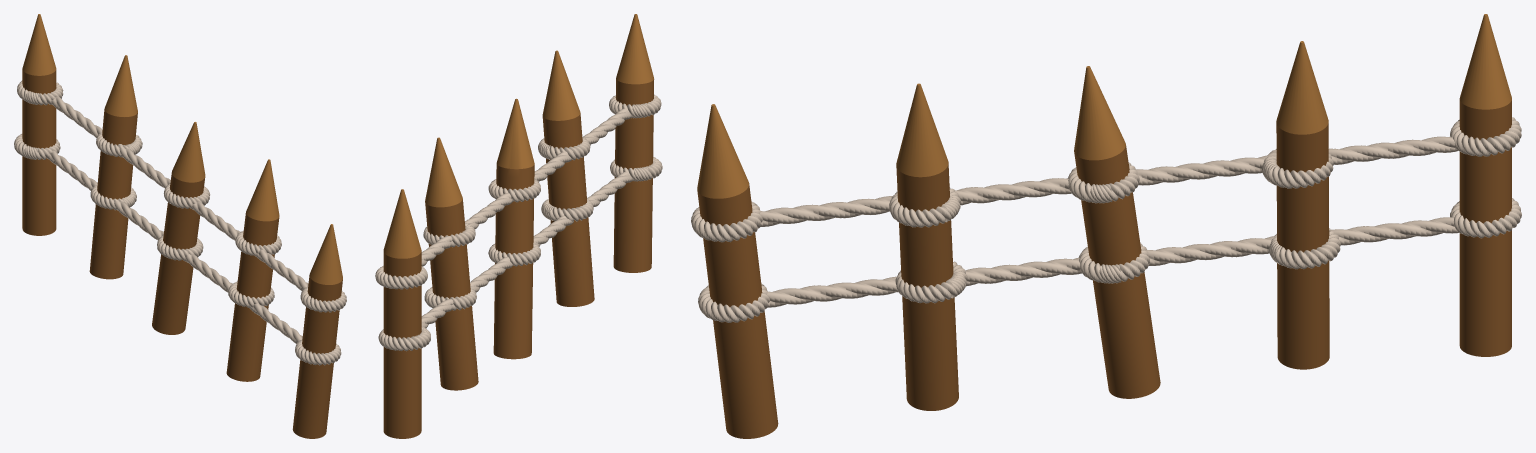
Rendered from Zaun.fbx.
The picture shows the model from 3 angles, left to right: view 1: azimuth 30°, elevation 25°; view 2: azimuth 150°, elevation 25°; view 3: azimuth 270°, elevation 25°; orthographic projection. The views are drawn at different scales.
Visible parts, largest first — view 1: Zaun.006; view 2: Zaun.006; view 3: Zaun.006.
Boxes of the visible parts, left/top/right/bottom form: Zaun.006: left=14, top=14, right=346, bottom=438; Zaun.006: left=375, top=14, right=662, bottom=438; Zaun.006: left=691, top=14, right=1521, bottom=438.
Size of the model in its own units: 62.88 by 186 by 360.
